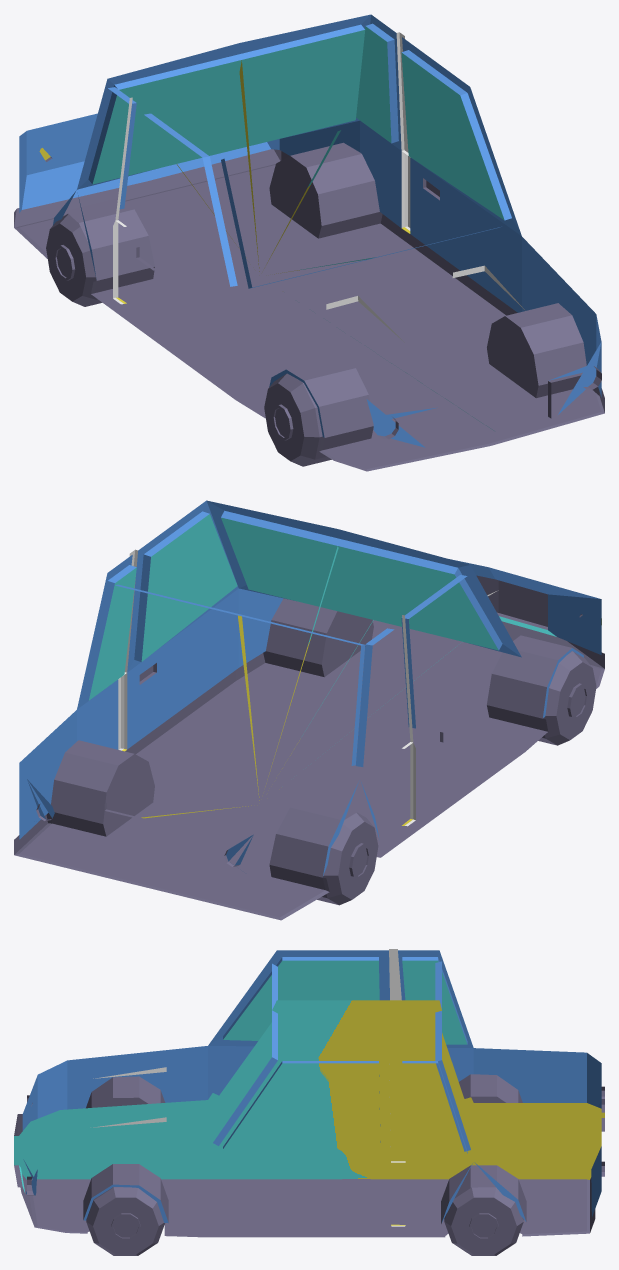
The model's file is BasicCar.glb.
The picture shows the model from 3 angles, top to bottom: view 1: azimuth 30°, elevation 25°; view 2: azimuth 150°, elevation 25°; view 3: azimuth 270°, elevation 25°; orthographic projection. The views are drawn at different scales.
Parts seen in each view (by area): view 1: BasicCar; view 2: BasicCar; view 3: BasicCar.
Part boxes in pixels (x1,y1,x2,y2): BasicCar: (14, 14, 604, 471); BasicCar: (14, 500, 604, 920); BasicCar: (14, 949, 604, 1255).
Size of the model in its own units: 2.01 by 1.58 by 4.2.
3 materials, 3 textured.
